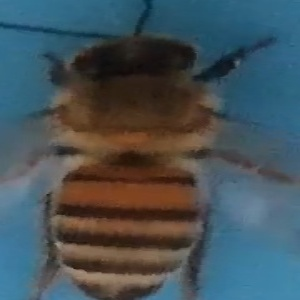bee: (27, 15, 278, 300)
